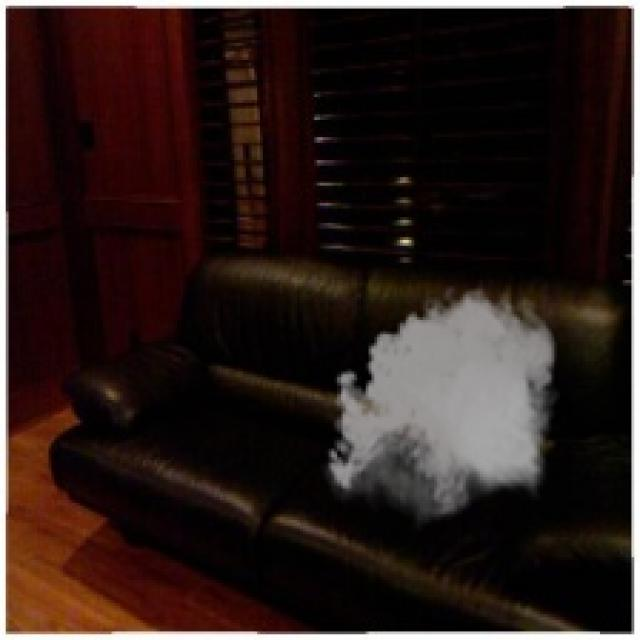smoke: (320, 280, 566, 531)
